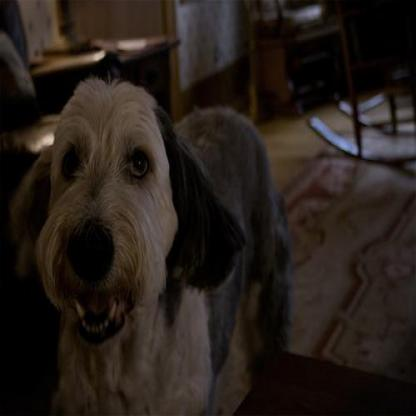Old_English_sheepdog: (9, 75, 292, 413)
